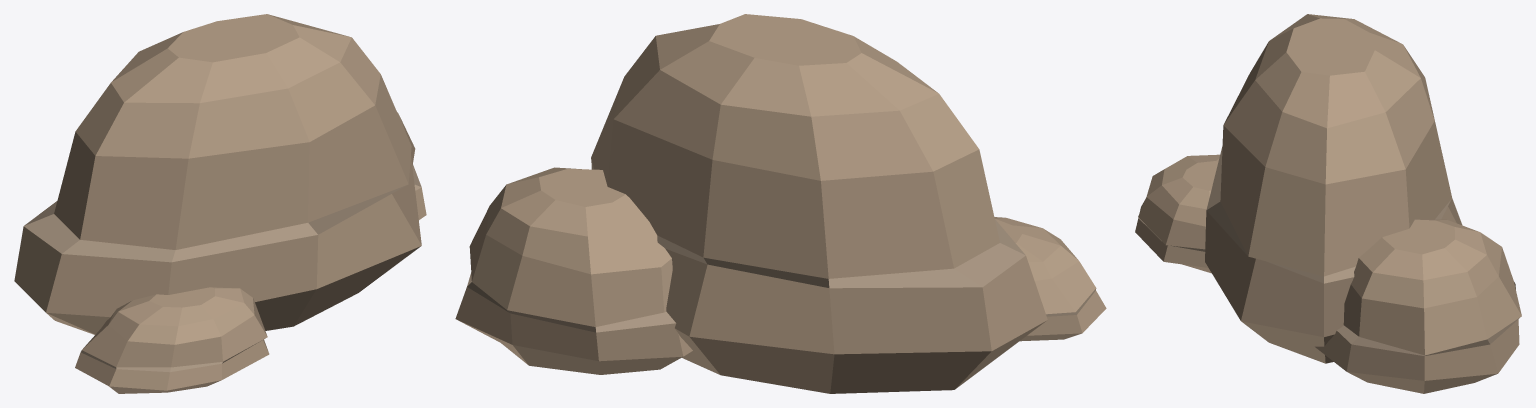
Rendered from NW1_Rock.fbx.
3 renders of one model, left to right at view 1: azimuth 30°, elevation 25°; view 2: azimuth 150°, elevation 25°; view 3: azimuth 270°, elevation 25°, orthographic. The views are drawn at different scales.
Visible parts, largest first — view 1: NW1_Rock_NW1_Rock; view 2: NW1_Rock_NW1_Rock; view 3: NW1_Rock_NW1_Rock.
Boxes of the visible parts, bbox=[...] form: NW1_Rock_NW1_Rock: bbox=[14, 14, 426, 393]; NW1_Rock_NW1_Rock: bbox=[455, 14, 1106, 393]; NW1_Rock_NW1_Rock: bbox=[1135, 14, 1521, 393].
Size of the model in its own units: 3.97 by 2.2 by 3.08.
